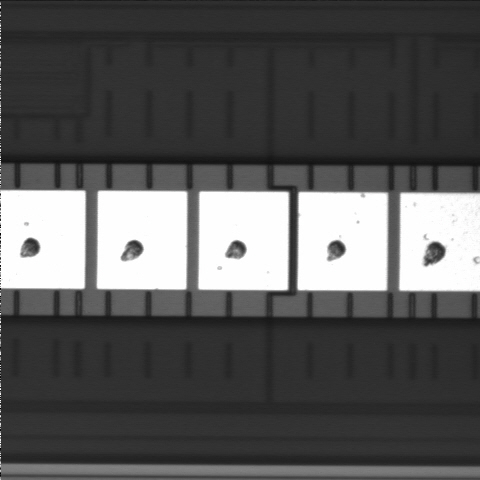pad: (198, 192, 289, 290), (97, 191, 187, 290), (298, 192, 388, 290)
